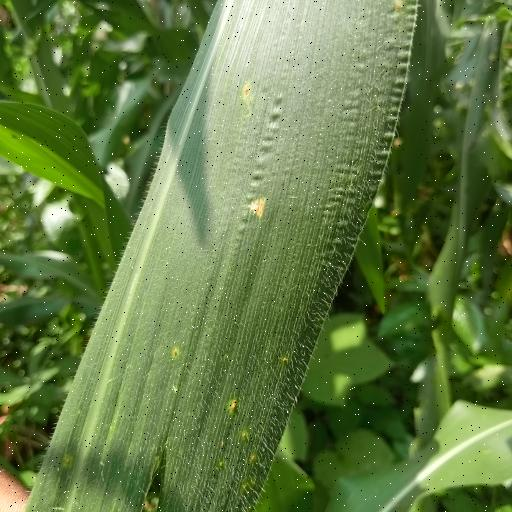Corn_Brown_Spots: (24, 0, 430, 512)
